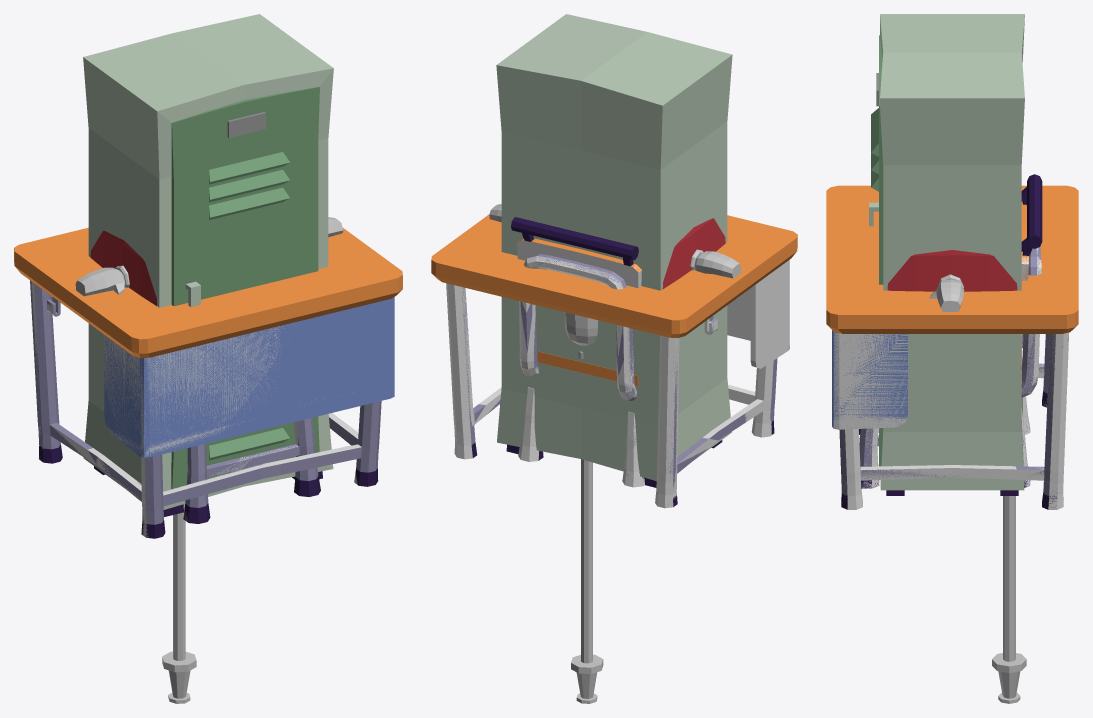
The model's file is FirefighterEnemies.fbx.
The picture shows the model from 3 angles, left to right: view 1: azimuth 30°, elevation 25°; view 2: azimuth 150°, elevation 25°; view 3: azimuth 270°, elevation 25°; orthographic projection. The views are drawn at different scales.
Visible parts, largest first — view 1: Table.003, Body, LockerDoorPiece1, Table.002, Table, Middle, Table.001, LockerPiece1, LockerPiece3, Model.001, LockerDoorPiece2, LockerDoor (+8 smaller); view 2: Body, Table, Legs, Table.001, Model.001, Metal.001, Middle, LockerPiece1, LockerPiece3, Bar, Back.003, TrashPiece1 (+4 smaller); view 3: Body, LockerPiece2, Table, Table.001, Table.002, LockerPiece1, Middle, Legs, Model.001, Body.001, LockerPiece3, TrashPiece1 (+8 smaller).
Part boxes in pixels (x1,y1,x2,y2): Table.003: [65, 288, 296, 538]; Body: [83, 14, 333, 480]; LockerDoorPiece1: [171, 87, 319, 275]; Table.002: [280, 275, 402, 486]; Table: [14, 228, 402, 356]; Middle: [104, 326, 324, 457]; Table.001: [14, 227, 102, 463]; LockerPiece1: [85, 63, 333, 238]; LockerPiece3: [83, 335, 333, 516]; Model.001: [75, 217, 343, 703]; LockerDoorPiece2: [174, 230, 265, 306]; LockerDoor: [171, 112, 319, 488]; Body: [496, 14, 732, 480]; Table: [431, 214, 797, 337]; Legs: [446, 283, 773, 508]; Table.001: [431, 240, 734, 506]; Model.001: [489, 204, 741, 703]; Metal.001: [518, 256, 644, 487]; Middle: [727, 260, 789, 368]; LockerPiece1: [660, 55, 732, 195]; LockerPiece3: [557, 327, 730, 456]; Bar: [511, 217, 638, 266]; Back.003: [517, 240, 641, 288]; TrashPiece1: [515, 217, 718, 288]; Body: [880, 14, 1024, 490]; LockerPiece2: [883, 178, 1021, 392]; Table: [826, 185, 1078, 333]; Table.001: [1011, 185, 1078, 509]; Table.002: [826, 289, 1021, 509]; LockerPiece1: [880, 16, 1023, 178]; Middle: [833, 331, 907, 429]; Legs: [842, 332, 1069, 509]; Model.001: [929, 274, 1026, 703]; Body.001: [887, 250, 1017, 291]; LockerPiece3: [880, 392, 1021, 495]; TrashPiece1: [887, 174, 1039, 289].
Bounding box in the file's own units: 13500 × 31527 × 11139.
